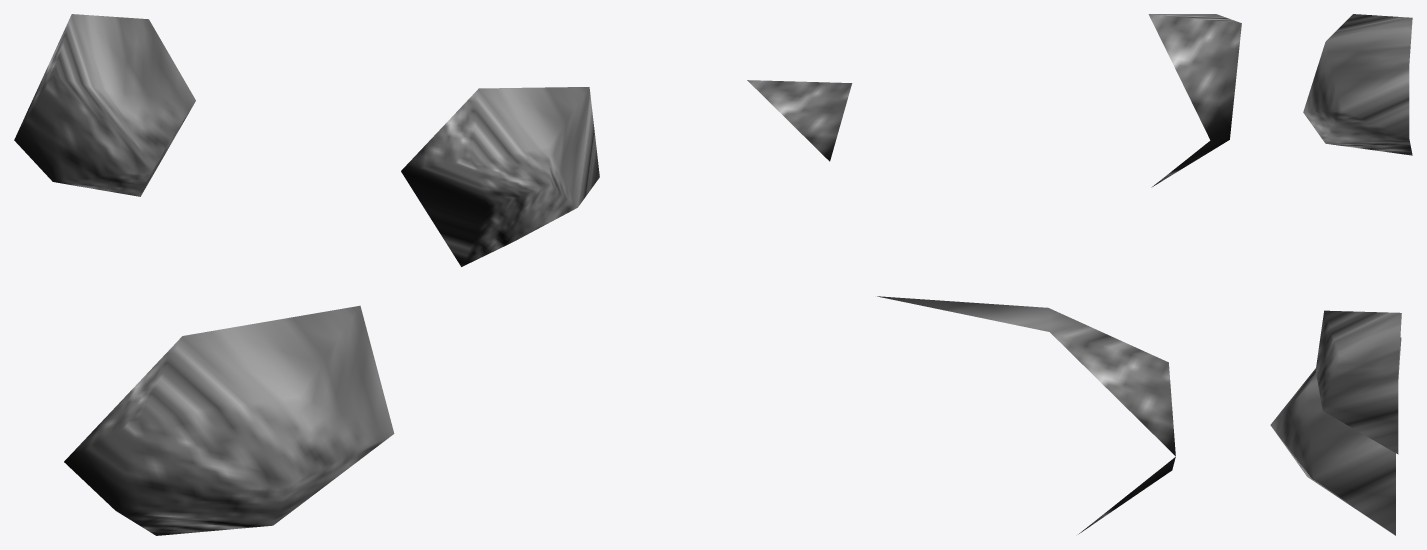
File: Stone04.glb
3 renders of one model, left to right at view 1: azimuth 30°, elevation 25°; view 2: azimuth 150°, elevation 25°; view 3: azimuth 270°, elevation 25°, orthographic. The views are drawn at different scales.
Visible parts, largest first — view 1: model_Stone04; view 2: model_Stone04; view 3: model_Stone04.
Part boxes in pixels (x1=…): model_Stone04: x1=14, y1=14, x2=599, y2=535; model_Stone04: x1=747, y1=14, x2=1241, y2=534; model_Stone04: x1=1270, y1=14, x2=1412, y2=535.
Size of the model in its own units: 1.15 by 1.02 by 0.3013.
1 material, 1 textured.
